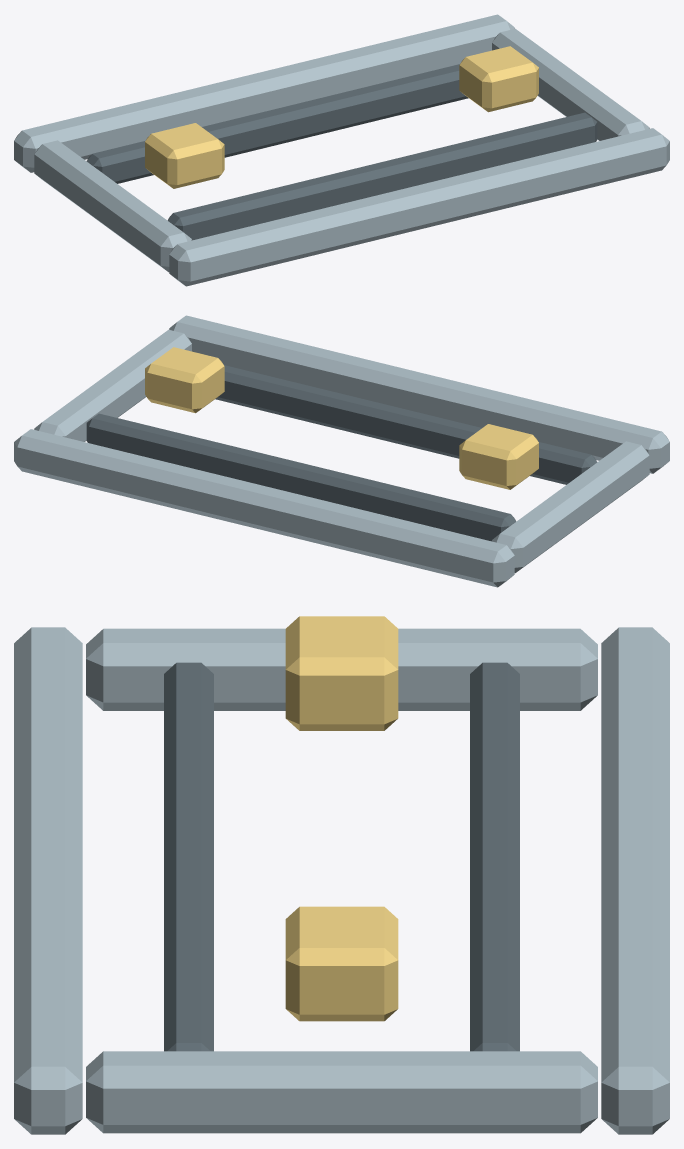
File: FTF_Advanced_LightweightChassis.glb
3 views of the same model, one above another, from view 1: azimuth 30°, elevation 25°; view 2: azimuth 150°, elevation 25°; view 3: azimuth 270°, elevation 25° (orthographic). The views are drawn at different scales.
Parts seen in each view (by area): view 1: SideRail_Front, SideRail_Rear, CrossBeamFront, CrossBeamRear, EndRail_L, EndRail_R, Mount_L, Mount_R; view 2: SideRail_Rear, SideRail_Front, CrossBeamRear, CrossBeamFront, EndRail_L, EndRail_R, Mount_L, Mount_R; view 3: EndRail_R, SideRail_Front, SideRail_Rear, EndRail_L, CrossBeamFront, CrossBeamRear, Mount_R, Mount_L.
Part boxes in pixels (left/top/right/bottom): SideRail_Front: left=169, top=128, right=669, bottom=286; SideRail_Rear: left=14, top=14, right=514, bottom=172; CrossBeamFront: left=167, top=112, right=597, bottom=240; CrossBeamRear: left=86, top=64, right=468, bottom=183; EndRail_L: left=34, top=140, right=191, bottom=272; EndRail_R: left=492, top=28, right=649, bottom=140; Mount_L: left=145, top=123, right=224, bottom=188; Mount_R: left=459, top=46, right=538, bottom=112; SideRail_Rear: left=14, top=429, right=514, bottom=587; SideRail_Front: left=169, top=315, right=669, bottom=473; CrossBeamRear: left=86, top=413, right=516, bottom=541; CrossBeamFront: left=215, top=365, right=597, bottom=484; EndRail_L: left=492, top=441, right=649, bottom=573; EndRail_R: left=34, top=329, right=191, bottom=441; Mount_L: left=459, top=424, right=538, bottom=489; Mount_R: left=145, top=347, right=224, bottom=413; EndRail_R: left=86, top=1051, right=597, bottom=1133; SideRail_Front: left=14, top=627, right=82, bottom=1134; SideRail_Rear: left=601, top=627, right=669, bottom=1134; EndRail_L: left=86, top=628, right=597, bottom=710; CrossBeamFront: left=164, top=662, right=213, bottom=1051; CrossBeamRear: left=470, top=662, right=519, bottom=1051; Mount_R: left=285, top=906, right=398, bottom=1021; Mount_L: left=285, top=616, right=398, bottom=730.
Bounding box in the file's own units: 1.72 × 0.235 × 1.05.
